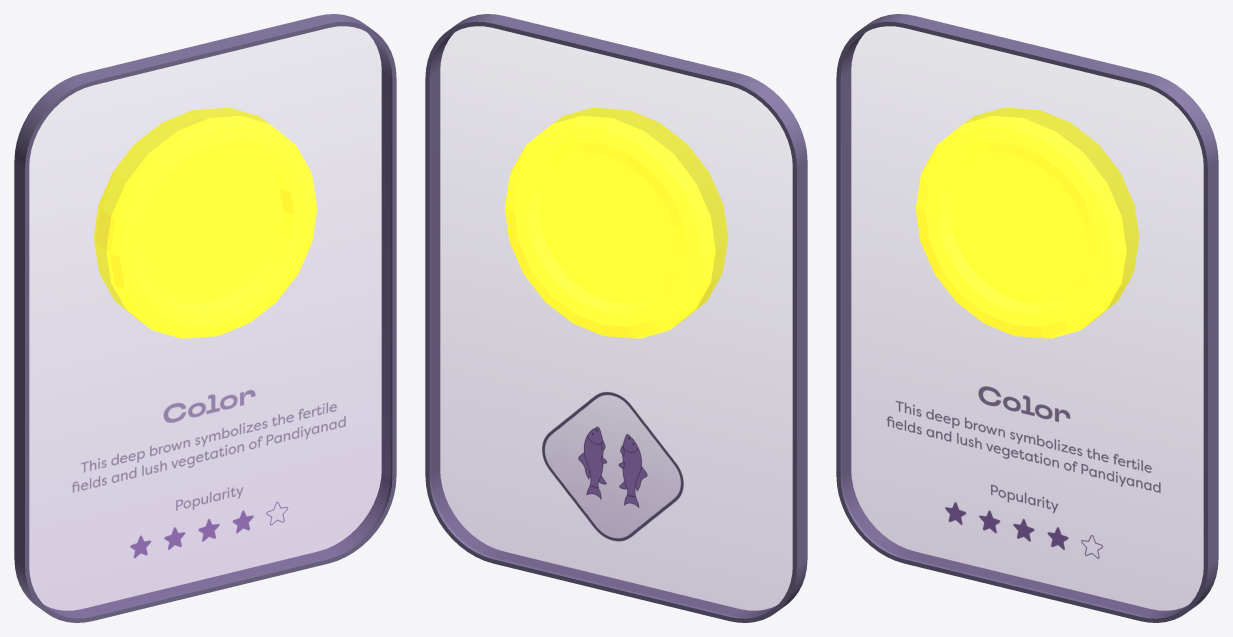
Rendered from pandicolor.glb.
The picture shows the model from 3 angles, left to right: view 1: azimuth 30°, elevation 25°; view 2: azimuth 150°, elevation 25°; view 3: azimuth 330°, elevation 25°; orthographic projection.
Parts seen in each view (by area): view 1: Bhai_Card.tex.023, Coin.006, Bhai_Card.out.023; view 2: Bhai_Card.tex.023, Coin.006, Bhai_Card.out.023; view 3: Bhai_Card.tex.023, Coin.006, Bhai_Card.out.023.
Part boxes in pixels (left/top/right/bottom): Bhai_Card.tex.023: left=29, top=146, right=390, bottom=616; Coin.006: left=93, top=107, right=317, bottom=338; Bhai_Card.out.023: left=14, top=14, right=396, bottom=622; Bhai_Card.tex.023: left=431, top=146, right=792, bottom=616; Coin.006: left=504, top=107, right=728, bottom=338; Bhai_Card.out.023: left=425, top=14, right=807, bottom=622; Bhai_Card.tex.023: left=842, top=146, right=1203, bottom=616; Coin.006: left=915, top=107, right=1139, bottom=338; Bhai_Card.out.023: left=836, top=14, right=1218, bottom=622.
Size of the model in its own units: 1.81 by 2.51 by 0.25.
4 materials, 2 textured.
